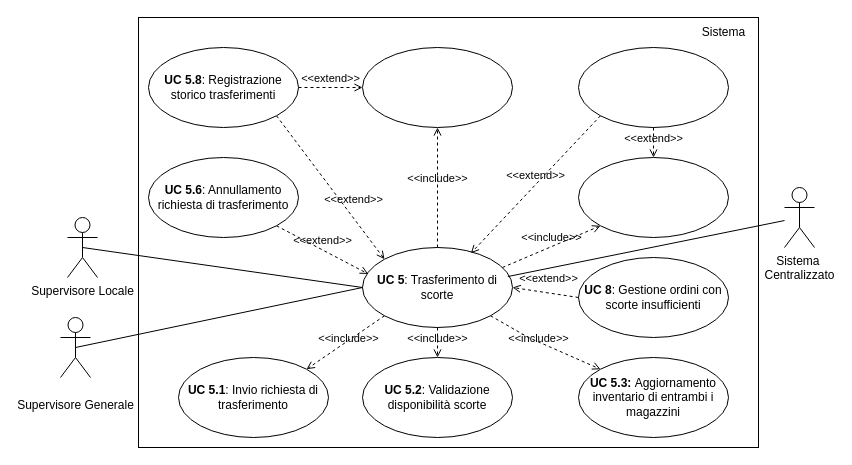
Some shapes in this 852 by 465 pixel diagram are drawn without their labels. Each missing label, with the centre of its shape:
UC 5.4 : Tracciamento del trasferimento dei prodotti: the point at 437,87
UC 5.5 : Aggiornamento stato del trasferimento: the point at 653,197
UC 5.7 : Notifica automatica esito trasferimento: the point at 653,87
